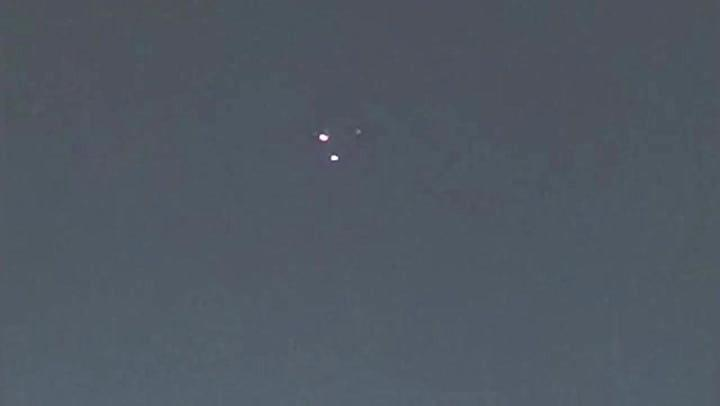Plane: (302, 122, 343, 173)
